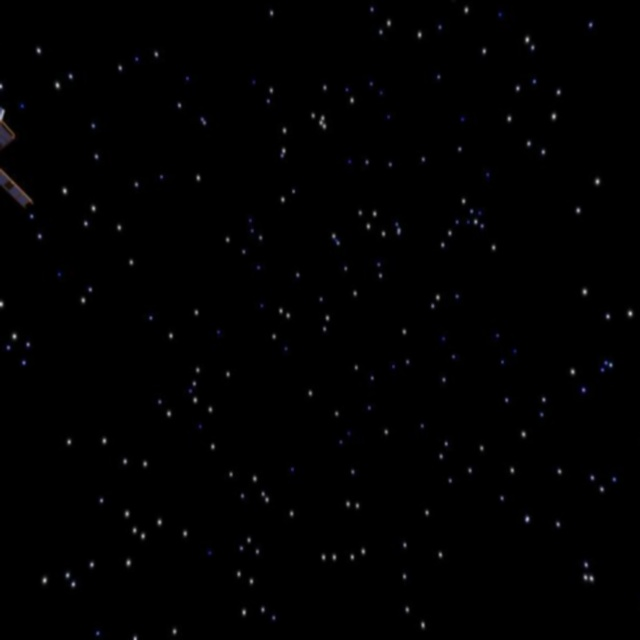medium_debris: (0, 103, 43, 238)
